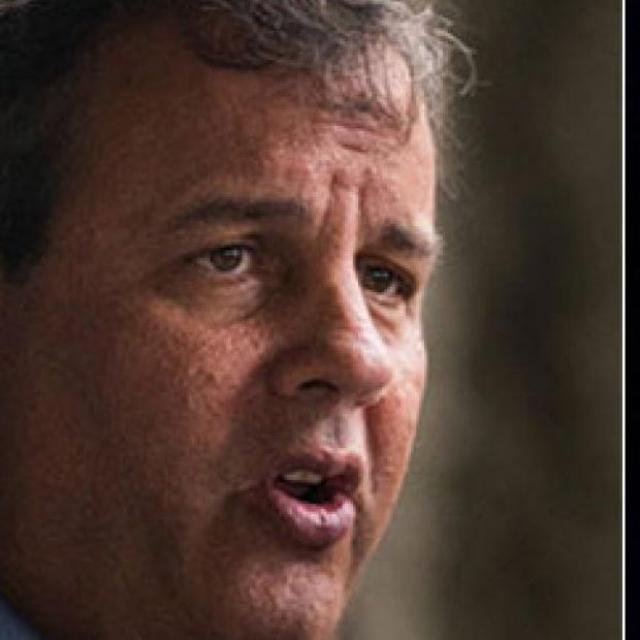surprised: (13, 43, 413, 618)
